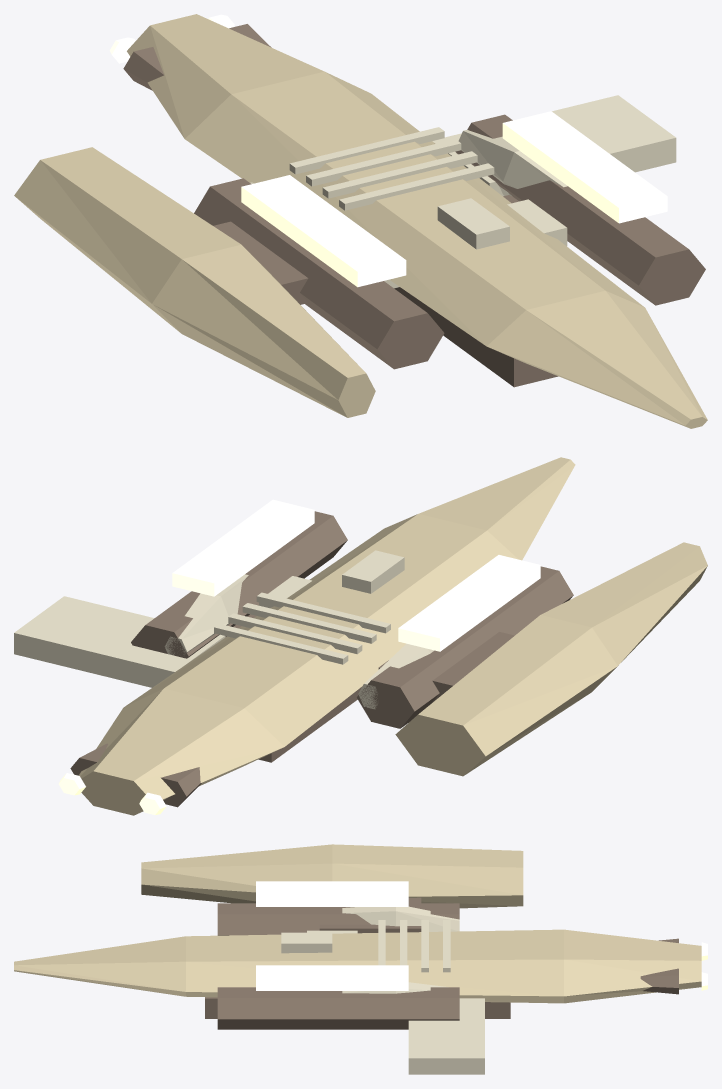
3 renders of one model, top to bottom at view 1: azimuth 30°, elevation 25°; view 2: azimuth 150°, elevation 25°; view 3: azimuth 270°, elevation 25°, orthographic. The views are drawn at different scales.
Bounding box in the file's own units: 7.43 × 1.41 × 11.66.
